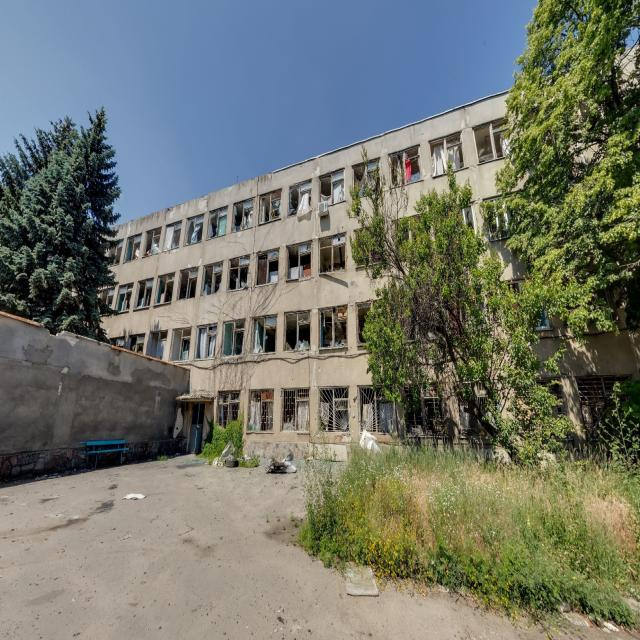broken_window: (353, 117, 508, 201), (319, 386, 350, 435), (282, 388, 310, 434), (317, 306, 347, 348), (247, 390, 274, 432), (285, 310, 311, 351), (250, 315, 276, 353), (256, 250, 278, 287), (288, 246, 310, 283), (289, 180, 311, 217), (323, 169, 345, 206), (322, 238, 343, 275), (259, 188, 280, 224), (227, 257, 249, 290), (201, 261, 223, 294), (170, 328, 192, 361), (133, 278, 155, 311), (216, 394, 238, 427), (194, 328, 216, 361), (223, 322, 245, 354), (154, 272, 175, 304), (177, 268, 198, 300), (113, 282, 134, 314), (184, 214, 203, 244), (143, 228, 162, 257), (207, 207, 226, 236), (123, 232, 141, 262), (164, 222, 182, 251), (234, 199, 252, 228)
building: (0, 93, 511, 495)
other: (0, 90, 640, 640)
